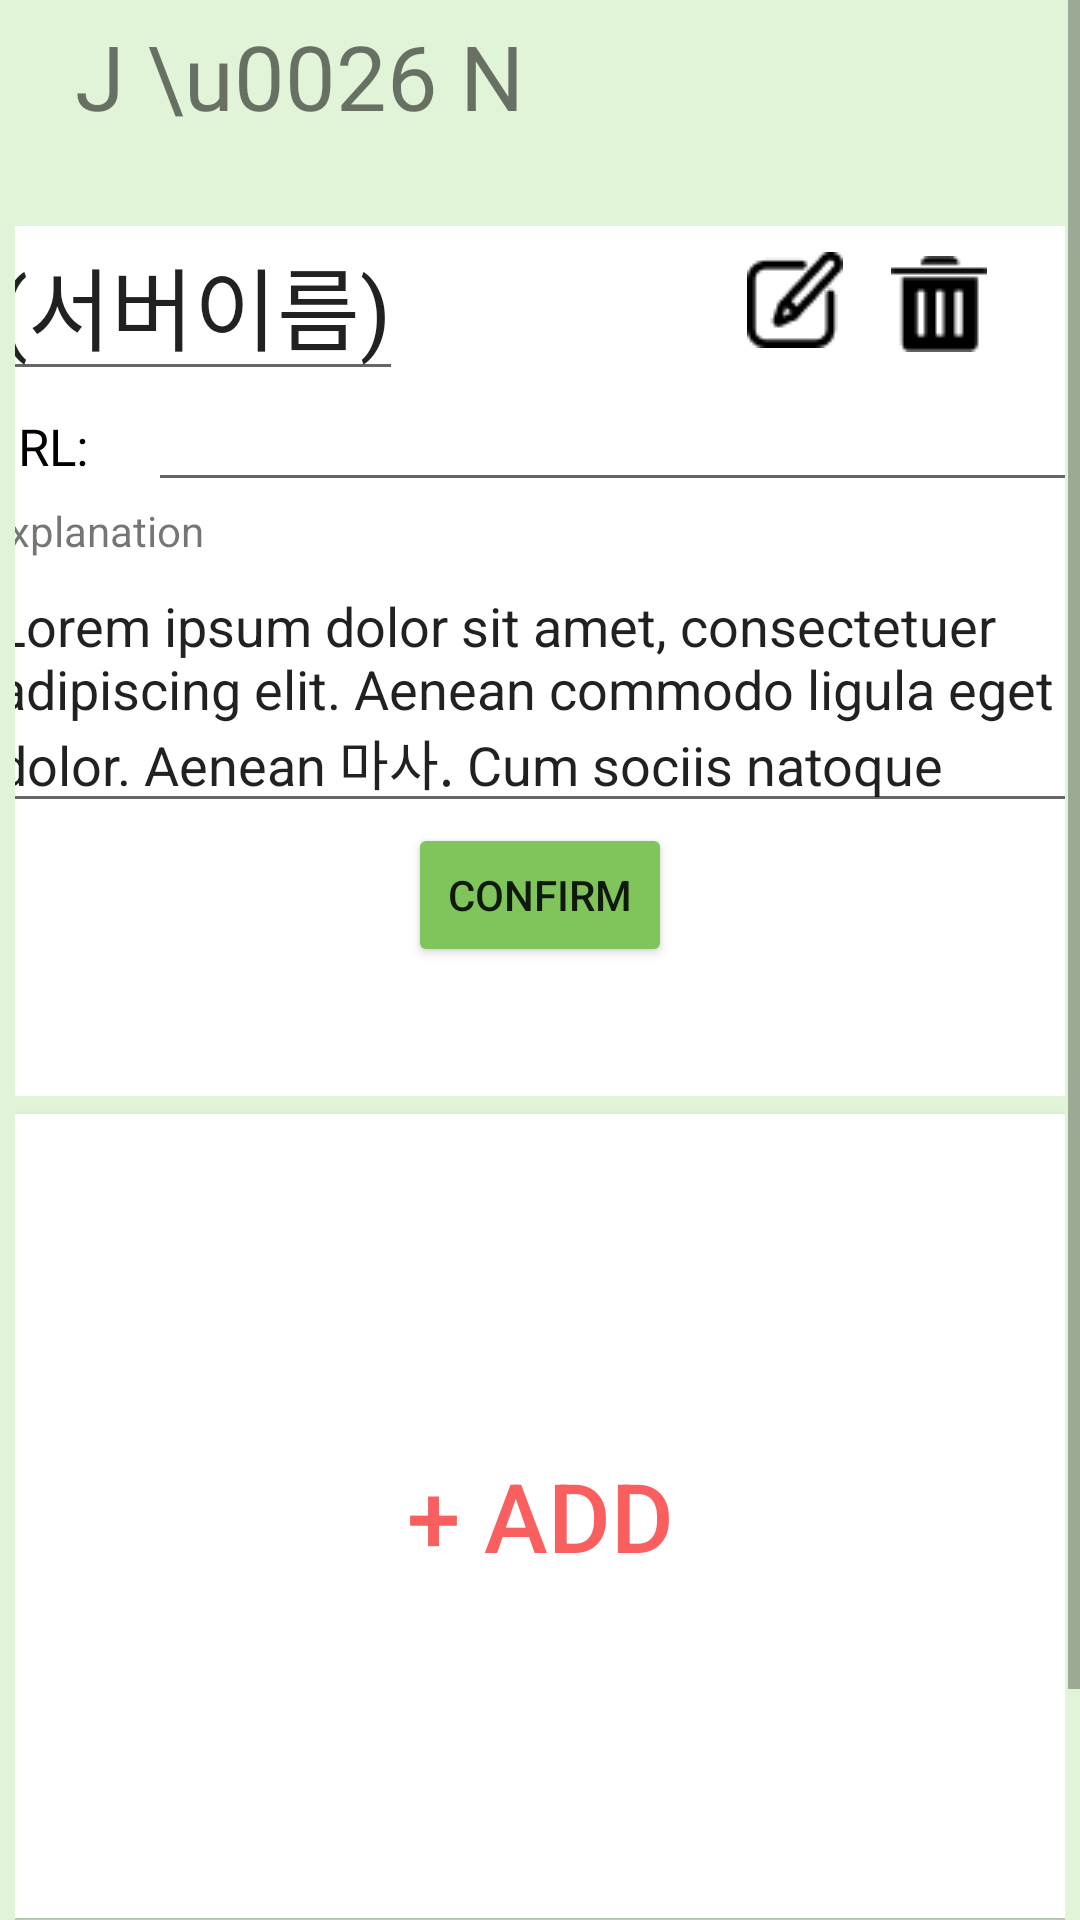

Screen size 1080px×1920px. Icon name, then its box in pixels as (x1, y1, x2, y2):
trash: (891, 256, 987, 352)
